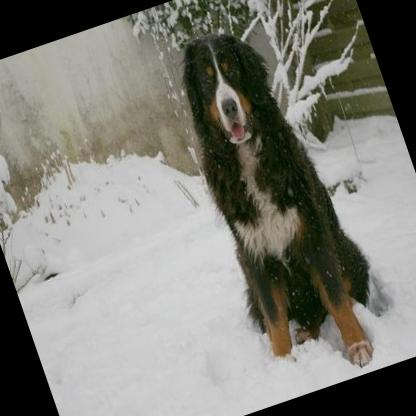Bernese_mountain_dog: (154, 6, 400, 393)
